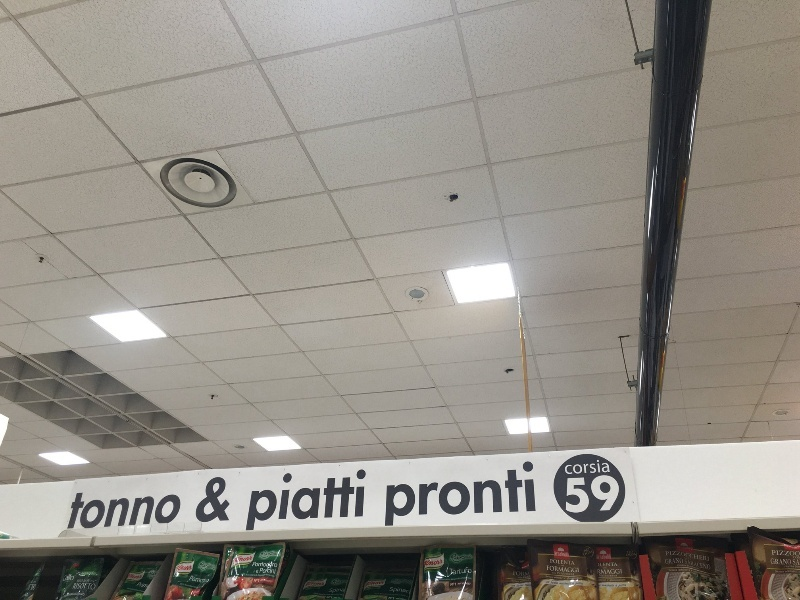text: (401, 460, 416, 529), (417, 460, 432, 529), (433, 460, 448, 529), (449, 460, 464, 529), (465, 460, 480, 529), (481, 460, 496, 529), (497, 460, 512, 529), (513, 460, 528, 529), (257, 470, 272, 533), (273, 470, 288, 533), (289, 470, 304, 533), (305, 470, 320, 533), (321, 470, 336, 533), (337, 470, 352, 533), (387, 460, 400, 529), (353, 470, 367, 533), (209, 477, 224, 524), (81, 492, 96, 531), (97, 492, 112, 531), (113, 492, 128, 531), (129, 492, 144, 531), (145, 492, 160, 531), (161, 492, 176, 531), (577, 475, 592, 514), (593, 475, 608, 514), (529, 460, 537, 529), (609, 475, 622, 514), (567, 475, 576, 514), (177, 492, 185, 531), (225, 477, 231, 524), (577, 458, 592, 476), (593, 458, 608, 476), (74, 492, 80, 531), (565, 458, 576, 476), (673, 550, 688, 562), (689, 550, 704, 562), (689, 559, 704, 571), (449, 566, 464, 576), (177, 564, 192, 573), (451, 554, 464, 564), (81, 583, 97, 591), (254, 470, 256, 533), (561, 566, 576, 574), (673, 569, 688, 577), (689, 569, 704, 577), (241, 556, 253, 565), (65, 575, 80, 582), (193, 576, 208, 583), (547, 566, 560, 574), (450, 581, 464, 588), (369, 581, 385, 587), (206, 477, 208, 524), (609, 568, 622, 575), (257, 562, 272, 568), (561, 559, 576, 565), (401, 578, 413, 585), (514, 570, 528, 576), (770, 559, 784, 565), (262, 551, 272, 559), (433, 559, 443, 567), (209, 560, 216, 571), (261, 568, 272, 575), (597, 568, 608, 575), (129, 574, 144, 579), (609, 584, 624, 589), (785, 551, 800, 556), (785, 570, 800, 575), (391, 587, 400, 595), (401, 587, 410, 595), (666, 550, 672, 562), (705, 559, 711, 571), (465, 554, 472, 564), (465, 566, 472, 576), (202, 560, 208, 571), (673, 559, 684, 565), (424, 559, 432, 567), (308, 582, 320, 587), (518, 577, 528, 583), (561, 576, 576, 580), (561, 581, 576, 585), (705, 550, 710, 562), (772, 551, 784, 556), (273, 551, 280, 559), (561, 572, 575, 576), (546, 576, 560, 580), (546, 581, 560, 585), (597, 555, 608, 560), (597, 562, 608, 567), (234, 556, 240, 565), (551, 559, 560, 565), (679, 545, 688, 551), (393, 578, 400, 585), (793, 559, 800, 566), (561, 551, 569, 557), (705, 569, 711, 577), (337, 589, 346, 594), (609, 562, 618, 567), (775, 570, 784, 575), (28, 580, 32, 591), (33, 580, 37, 591), (465, 581, 471, 588), (665, 559, 672, 565), (75, 583, 80, 591), (81, 579, 91, 583), (609, 458, 611, 476), (554, 551, 560, 557), (685, 559, 688, 571), (785, 559, 791, 565), (552, 572, 560, 576), (273, 562, 278, 568), (513, 585, 528, 587), (609, 579, 624, 581), (602, 584, 608, 589), (689, 545, 694, 551), (785, 566, 800, 568), (140, 582, 144, 589), (145, 582, 149, 589), (273, 568, 277, 575), (331, 589, 336, 594), (577, 576, 583, 580), (577, 581, 583, 585), (669, 569, 672, 577), (321, 582, 325, 587), (599, 575, 608, 577), (609, 575, 618, 577), (599, 579, 608, 581), (577, 566, 579, 574), (254, 562, 256, 568), (366, 581, 368, 587), (529, 577, 531, 583), (609, 555, 611, 560), (625, 584, 627, 589), (78, 579, 80, 583), (257, 570, 259, 574), (209, 576, 210, 583), (529, 570, 530, 576), (529, 585, 531, 587), (625, 579, 626, 581)
